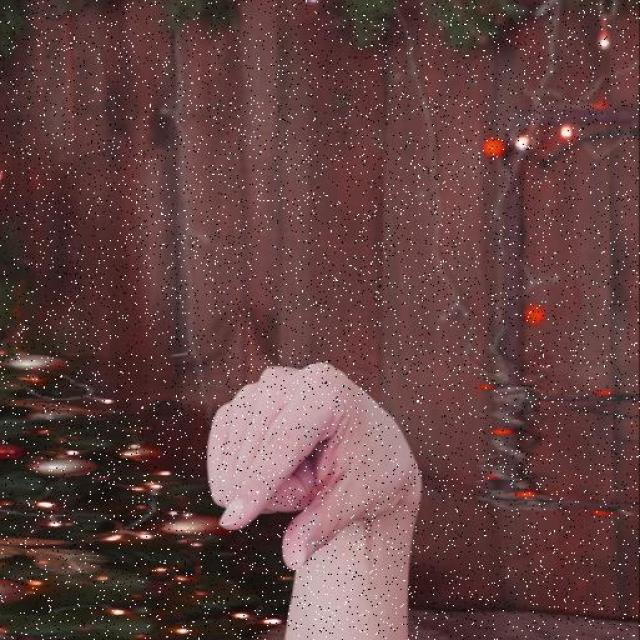Q: (198, 357, 426, 594)
